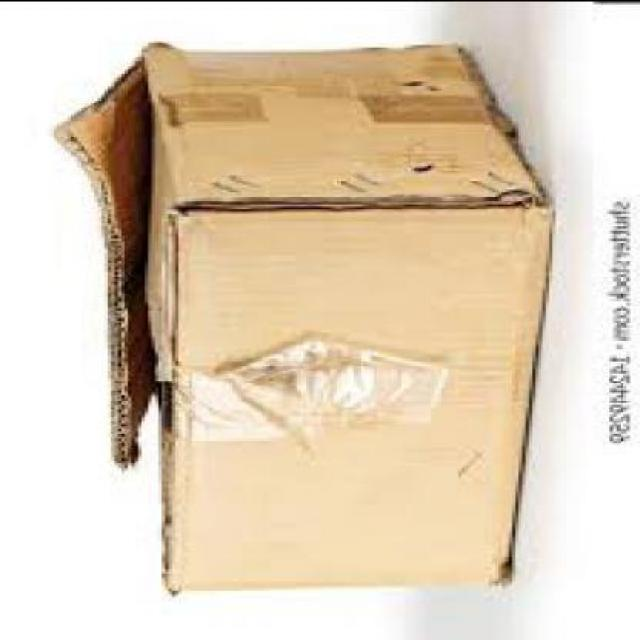box: (48, 39, 546, 593)
